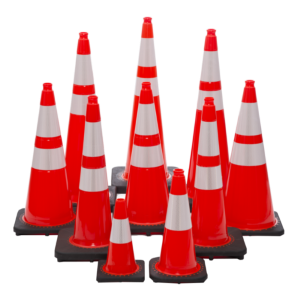traffic cone: (171, 28, 255, 214), (111, 17, 183, 193), (54, 95, 126, 263), (12, 82, 89, 236), (175, 97, 247, 261), (52, 32, 116, 212), (218, 80, 284, 235), (117, 82, 181, 237), (149, 169, 207, 285), (96, 198, 144, 282)
